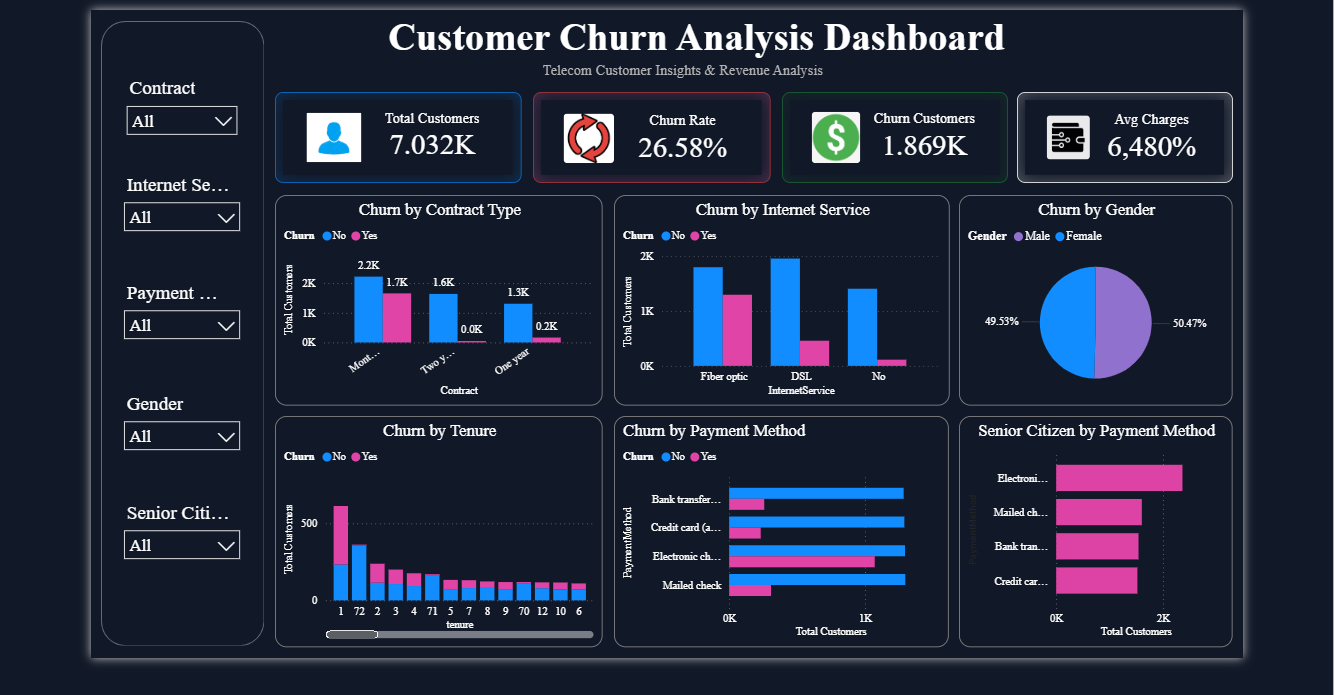

The page's visual inventory and layout, read from the dashboard file:
{"tool":"powerbi","page":{"name":"Page 1","canvas":[1280,720],"ordinal":0},"visuals":[{"type":"textbox","box":[292.3,0,761.5,78.5],"z":0},{"type":"textbox","box":[440,53.8,435.4,36.9],"z":1000},{"type":"shape","box":[11.3,12.8,181.4,694.5],"z":2000},{"type":"slicer","fields":{"Values":["Telco-Customer-Churn.Contract"]},"box":[26.9,66.6,148.8,87.9],"z":3000},{"type":"slicer","fields":{"Values":["Telco-Customer-Churn.InternetService"]},"box":[26.9,177.2,148.8,90.7],"z":4000},{"type":"slicer","fields":{"Values":["Telco-Customer-Churn.PaymentMethod"]},"box":[26.9,296.2,148.8,90.7],"z":5000},{"type":"slicer","fields":{"Values":["Telco-Customer-Churn.gender"]},"box":[26.9,419.5,148.8,93.5],"z":6000},{"type":"slicer","fields":{"Values":["Telco-Customer-Churn.SeniorCitizen"]},"box":[26.9,541.4,148.8,102],"z":7000},{"type":"clusteredColumnChart","title":"Churn by Contract Type","fields":{"Category":["Telco-Customer-Churn.Contract"],"Series":["Telco-Customer-Churn.Churn"],"Y":["Telco-Customer-Churn.Total Customers"]},"box":[204.1,205.5,364.3,233.9],"z":8000},{"type":"clusteredColumnChart","title":"Churn by Internet Service","fields":{"Category":["Telco-Customer-Churn.InternetService"],"Series":["Telco-Customer-Churn.Churn"],"Y":["Telco-Customer-Churn.Total Customers"]},"box":[581.1,205.5,372.8,233.9],"z":9000},{"type":"lineStackedColumnComboChart","title":"Churn by Tenure","fields":{"Category":["Telco-Customer-Churn.tenure"],"Series":["Telco-Customer-Churn.Churn"],"Y":["Telco-Customer-Churn.Total Customers"]},"box":[204.1,450.9,363.9,256.9],"z":10000},{"type":"clusteredBarChart","title":"Churn by Payment Method","fields":{"Category":["Telco-Customer-Churn.PaymentMethod"],"Series":["Telco-Customer-Churn.Churn"],"Y":["Telco-Customer-Churn.Total Customers"]},"box":[580.8,450.9,372.4,256.9],"z":11000},{"type":"pieChart","title":"Churn by Gender","fields":{"Category":["Telco-Customer-Churn.gender"],"Y":["CountNonNull(Telco-Customer-Churn.Churn)"]},"box":[964.6,205.5,303.9,234],"z":12000},{"type":"clusteredBarChart","title":"Senior Citizen by Payment Method","fields":{"Category":["Telco-Customer-Churn.PaymentMethod"],"Y":["Telco-Customer-Churn.Total Customers"]},"box":[964.6,450.9,303.9,256.9],"z":13000},{"type":"cardVisual","fields":{"Data":["Telco-Customer-Churn.Avg Charges"]},"box":[1028.9,91.3,239.7,101.3],"z":14000},{"type":"cardVisual","fields":{"Data":["Telco-Customer-Churn.Total Customers"]},"box":[204.1,91.3,274,101.3],"z":15000},{"type":"cardVisual","fields":{"Data":["Telco-Customer-Churn.Churn Rate"]},"box":[490.9,91.3,264,101.3],"z":16000},{"type":"cardVisual","fields":{"Data":["Telco-Customer-Churn.Churn Customers"]},"box":[767.7,91.3,251.1,101.3],"z":17000}]}

Visuals, with their boxes on the page's 1280x720 design canvas (x1, y1, x2, y2). These are canvas units, not pixel positions in the 1335x695 screenshot, which may show the page scaled, cropped or inside an application window:
textbox: bbox(292, 0, 1054, 78)
textbox: bbox(440, 54, 875, 91)
shape: bbox(11, 13, 193, 707)
slicer - Telco-Customer-Churn.Contract: bbox(27, 67, 176, 154)
slicer - Telco-Customer-Churn.InternetService: bbox(27, 177, 176, 268)
slicer - Telco-Customer-Churn.PaymentMethod: bbox(27, 296, 176, 387)
slicer - Telco-Customer-Churn.gender: bbox(27, 420, 176, 513)
slicer - Telco-Customer-Churn.SeniorCitizen: bbox(27, 541, 176, 643)
"Churn by Contract Type" clusteredColumnChart: bbox(204, 206, 568, 439)
"Churn by Internet Service" clusteredColumnChart: bbox(581, 206, 954, 439)
"Churn by Tenure" lineStackedColumnComboChart: bbox(204, 451, 568, 708)
"Churn by Payment Method" clusteredBarChart: bbox(581, 451, 953, 708)
"Churn by Gender" pieChart: bbox(965, 206, 1268, 440)
"Senior Citizen by Payment Method" clusteredBarChart: bbox(965, 451, 1268, 708)
cardVisual - Telco-Customer-Churn.Avg Charges: bbox(1029, 91, 1269, 193)
cardVisual - Telco-Customer-Churn.Total Customers: bbox(204, 91, 478, 193)
cardVisual - Telco-Customer-Churn.Churn Rate: bbox(491, 91, 755, 193)
cardVisual - Telco-Customer-Churn.Churn Customers: bbox(768, 91, 1019, 193)
